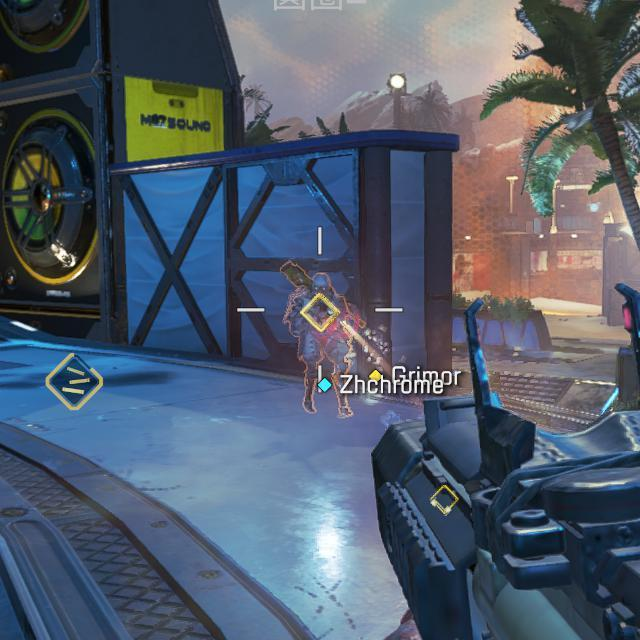avatar: (281, 260, 366, 418)
object: (298, 293, 341, 334)
